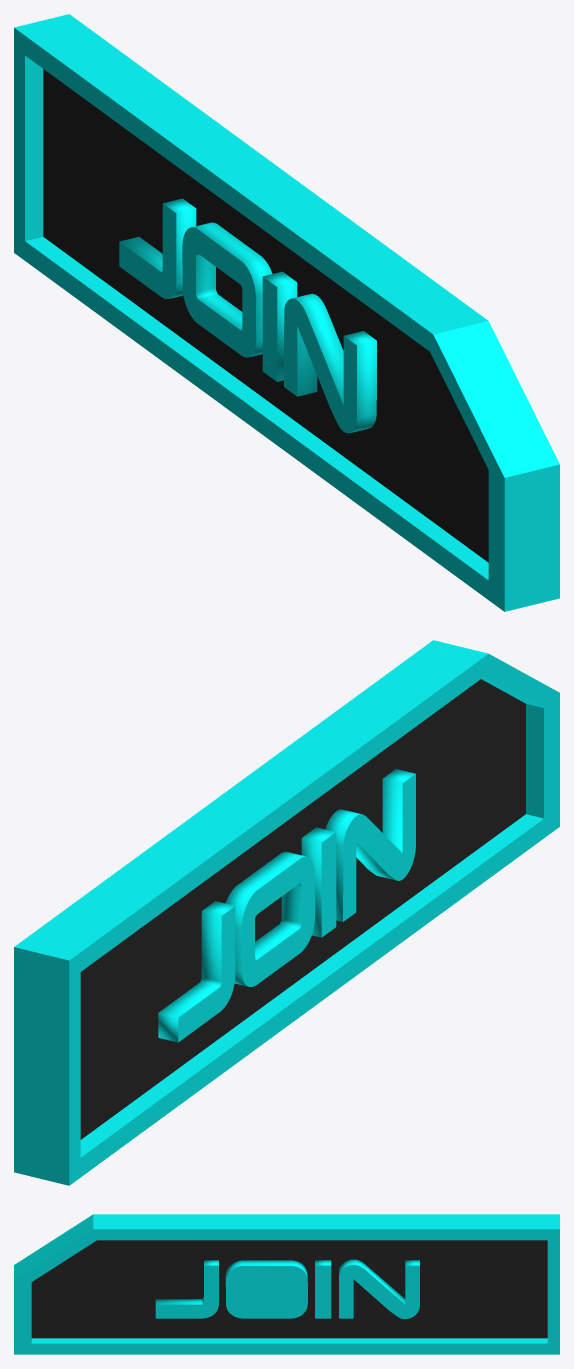
File: join.fbx
3 views of the same model, one above another, from view 1: azimuth 30°, elevation 25°; view 2: azimuth 150°, elevation 25°; view 3: azimuth 270°, elevation 25° (orthographic). The views are drawn at different scales.
Parts seen in each view (by area): view 1: Text; view 2: Text; view 3: Text.
Boxes of the visible parts, x1=… form: Text: x1=14, y1=14, x2=559, y2=611; Text: x1=14, y1=640, x2=559, y2=1185; Text: x1=14, y1=1214, x2=559, y2=1354.
Size of the model in its own units: 39.25 by 146 by 576.
